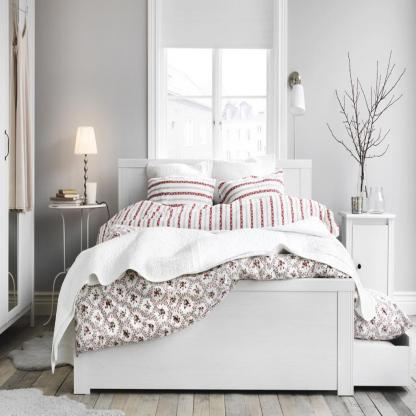Bed: (72, 156, 357, 398)
